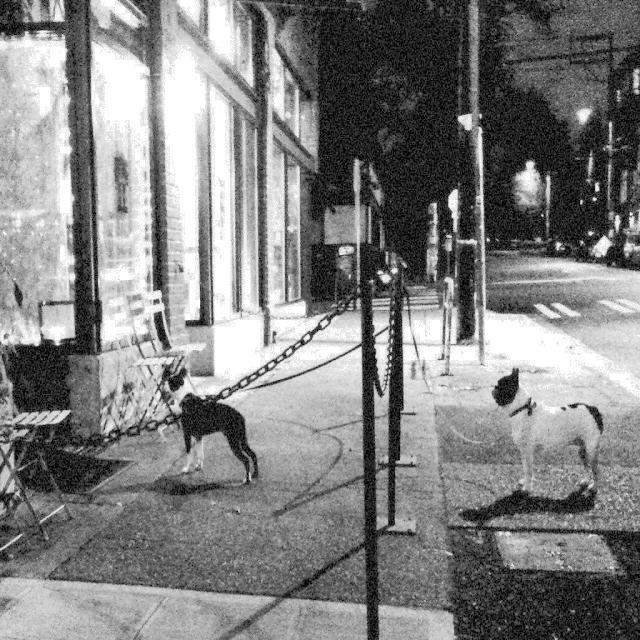Dog: (498, 341, 638, 520), (139, 375, 306, 497)
